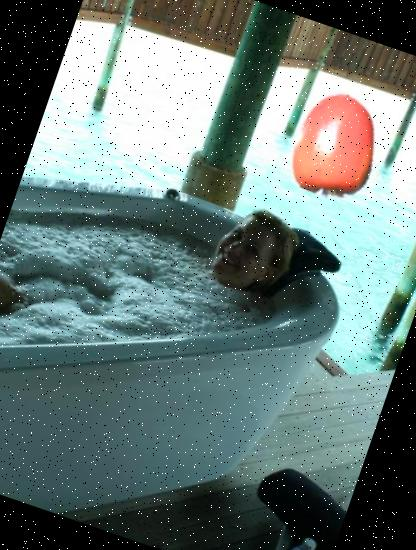Kaki: (272, 80, 405, 212)
